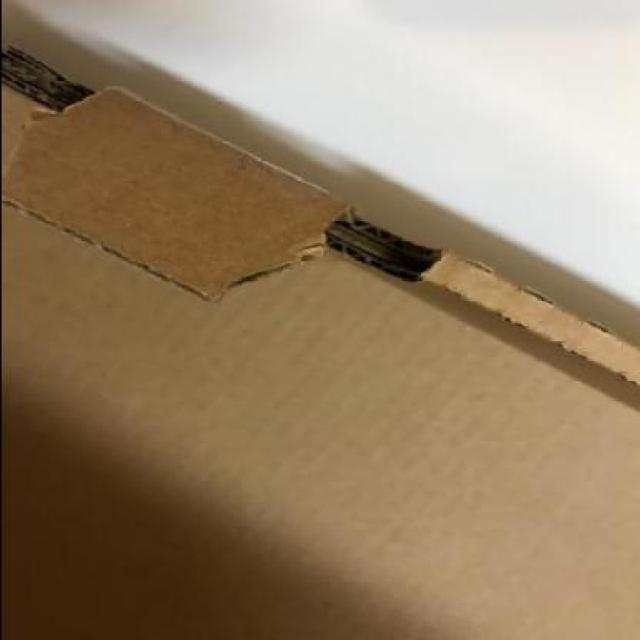CARDBOARD: (1, 47, 638, 640)
